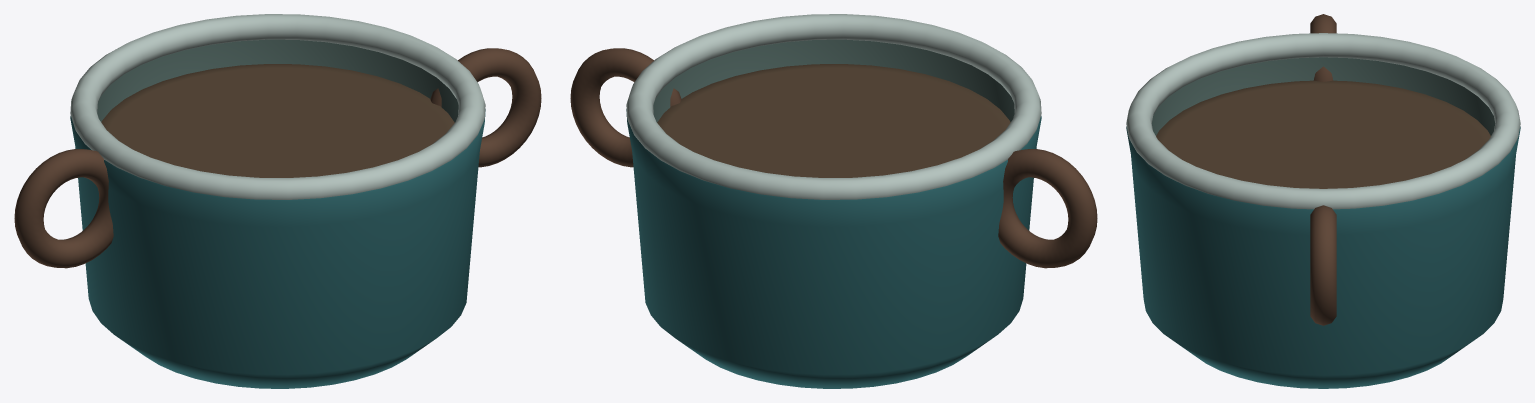
Rendered from pot-burnt.obj.
3 views of the same model, side by side, from view 1: azimuth 30°, elevation 25°; view 2: azimuth 150°, elevation 25°; view 3: azimuth 270°, elevation 25° (orthographic). The views are drawn at different scales.
Parts seen in each view (by area): view 1: pot-burnt_teal, pot-burnt_burnt, pot-burnt_metal, pot-burnt_cocoa, pot-burnt_darkMetal; view 2: pot-burnt_teal, pot-burnt_burnt, pot-burnt_metal, pot-burnt_cocoa, pot-burnt_darkMetal; view 3: pot-burnt_teal, pot-burnt_burnt, pot-burnt_metal, pot-burnt_darkMetal, pot-burnt_cocoa.
Boxes of the visible parts, x1,y1,x2,y2 form: pot-burnt_teal: [70, 109, 485, 388]; pot-burnt_burnt: [101, 64, 454, 177]; pot-burnt_metal: [70, 14, 485, 199]; pot-burnt_cocoa: [14, 48, 541, 268]; pot-burnt_darkMetal: [97, 39, 458, 122]; pot-burnt_teal: [626, 109, 1041, 388]; pot-burnt_burnt: [657, 64, 1010, 177]; pot-burnt_metal: [626, 14, 1041, 199]; pot-burnt_cocoa: [570, 48, 1097, 268]; pot-burnt_darkMetal: [653, 39, 1014, 122]; pot-burnt_teal: [1126, 126, 1520, 388]; pot-burnt_burnt: [1156, 80, 1490, 188]; pot-burnt_metal: [1126, 33, 1520, 209]; pot-burnt_darkMetal: [1151, 57, 1495, 135]; pot-burnt_cocoa: [1310, 14, 1336, 325].
Bounding box in the file's own units: 0.494 × 0.2045 × 0.34.
